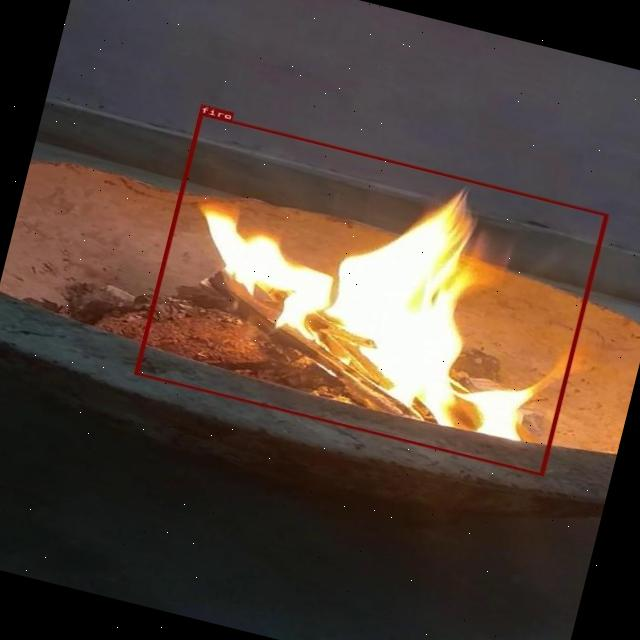fire: (133, 112, 608, 476)
